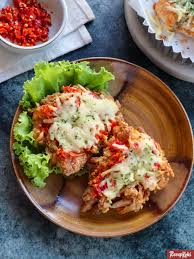ayam_geprek: (80, 126, 177, 217), (30, 80, 111, 169)
